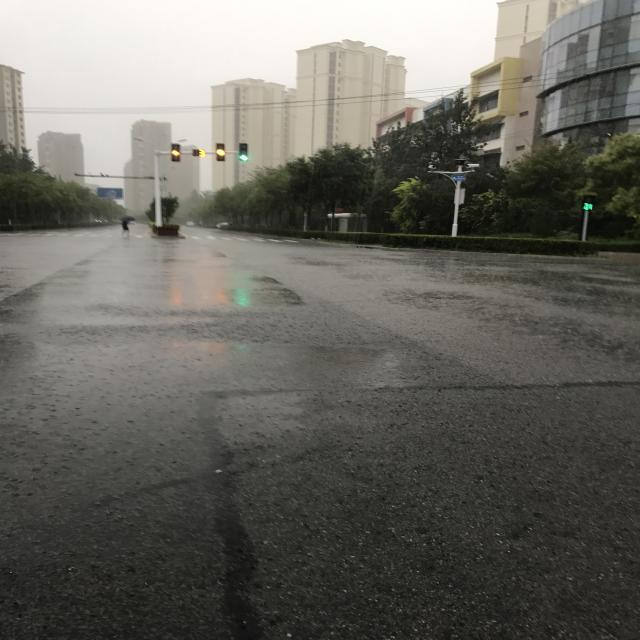car: (220, 444, 229, 454)
